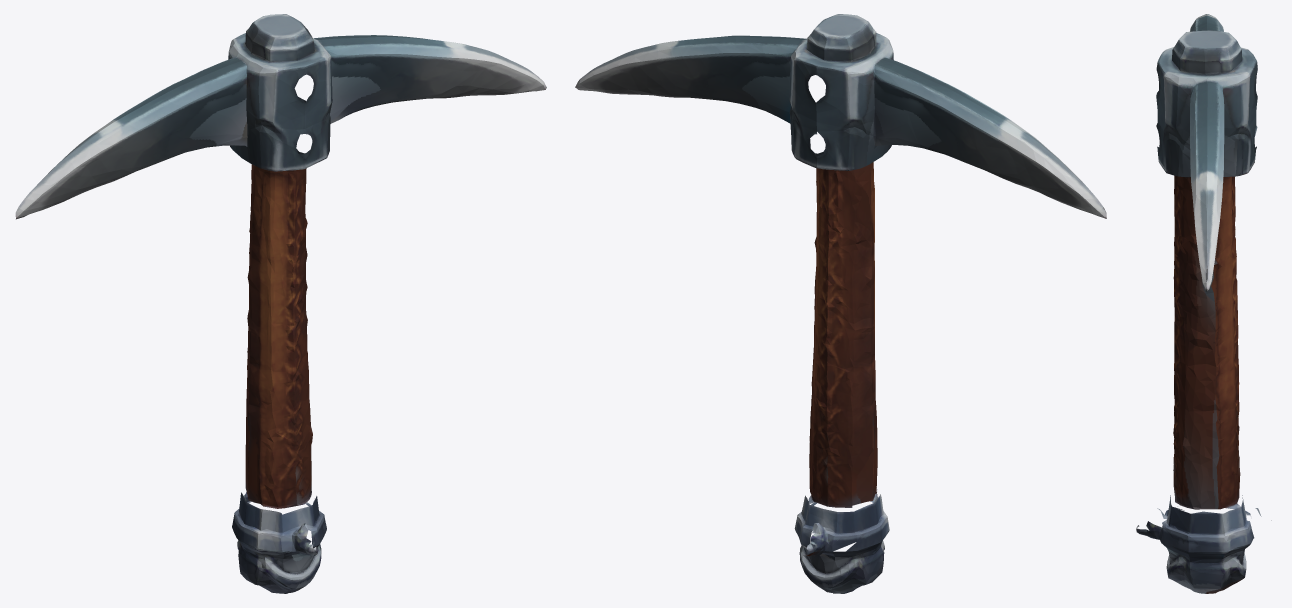
File: pico_4.glb
The picture shows the model from 3 angles, left to right: view 1: azimuth 30°, elevation 25°; view 2: azimuth 150°, elevation 25°; view 3: azimuth 270°, elevation 25°; orthographic projection. The views are drawn at different scales.
Parts seen in each view (by area): view 1: geometry_0; view 2: geometry_0; view 3: geometry_0.
Part boxes in pixels (x1,y1,x2,y2): geometry_0: (15,14,546,593); geometry_0: (575,14,1106,593); geometry_0: (1136,14,1271,593).
Bounding box in the file's own units: 0.8163 × 0.8245 × 0.192.
1 material, 1 textured.
